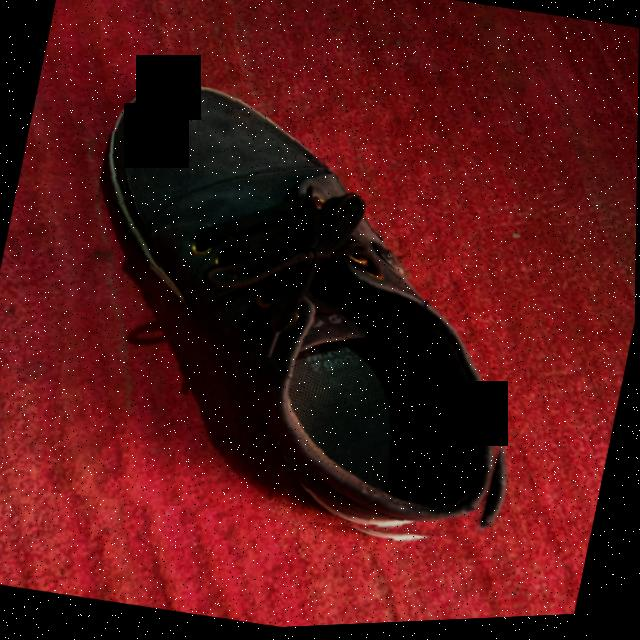shoe: (37, 60, 581, 579)
